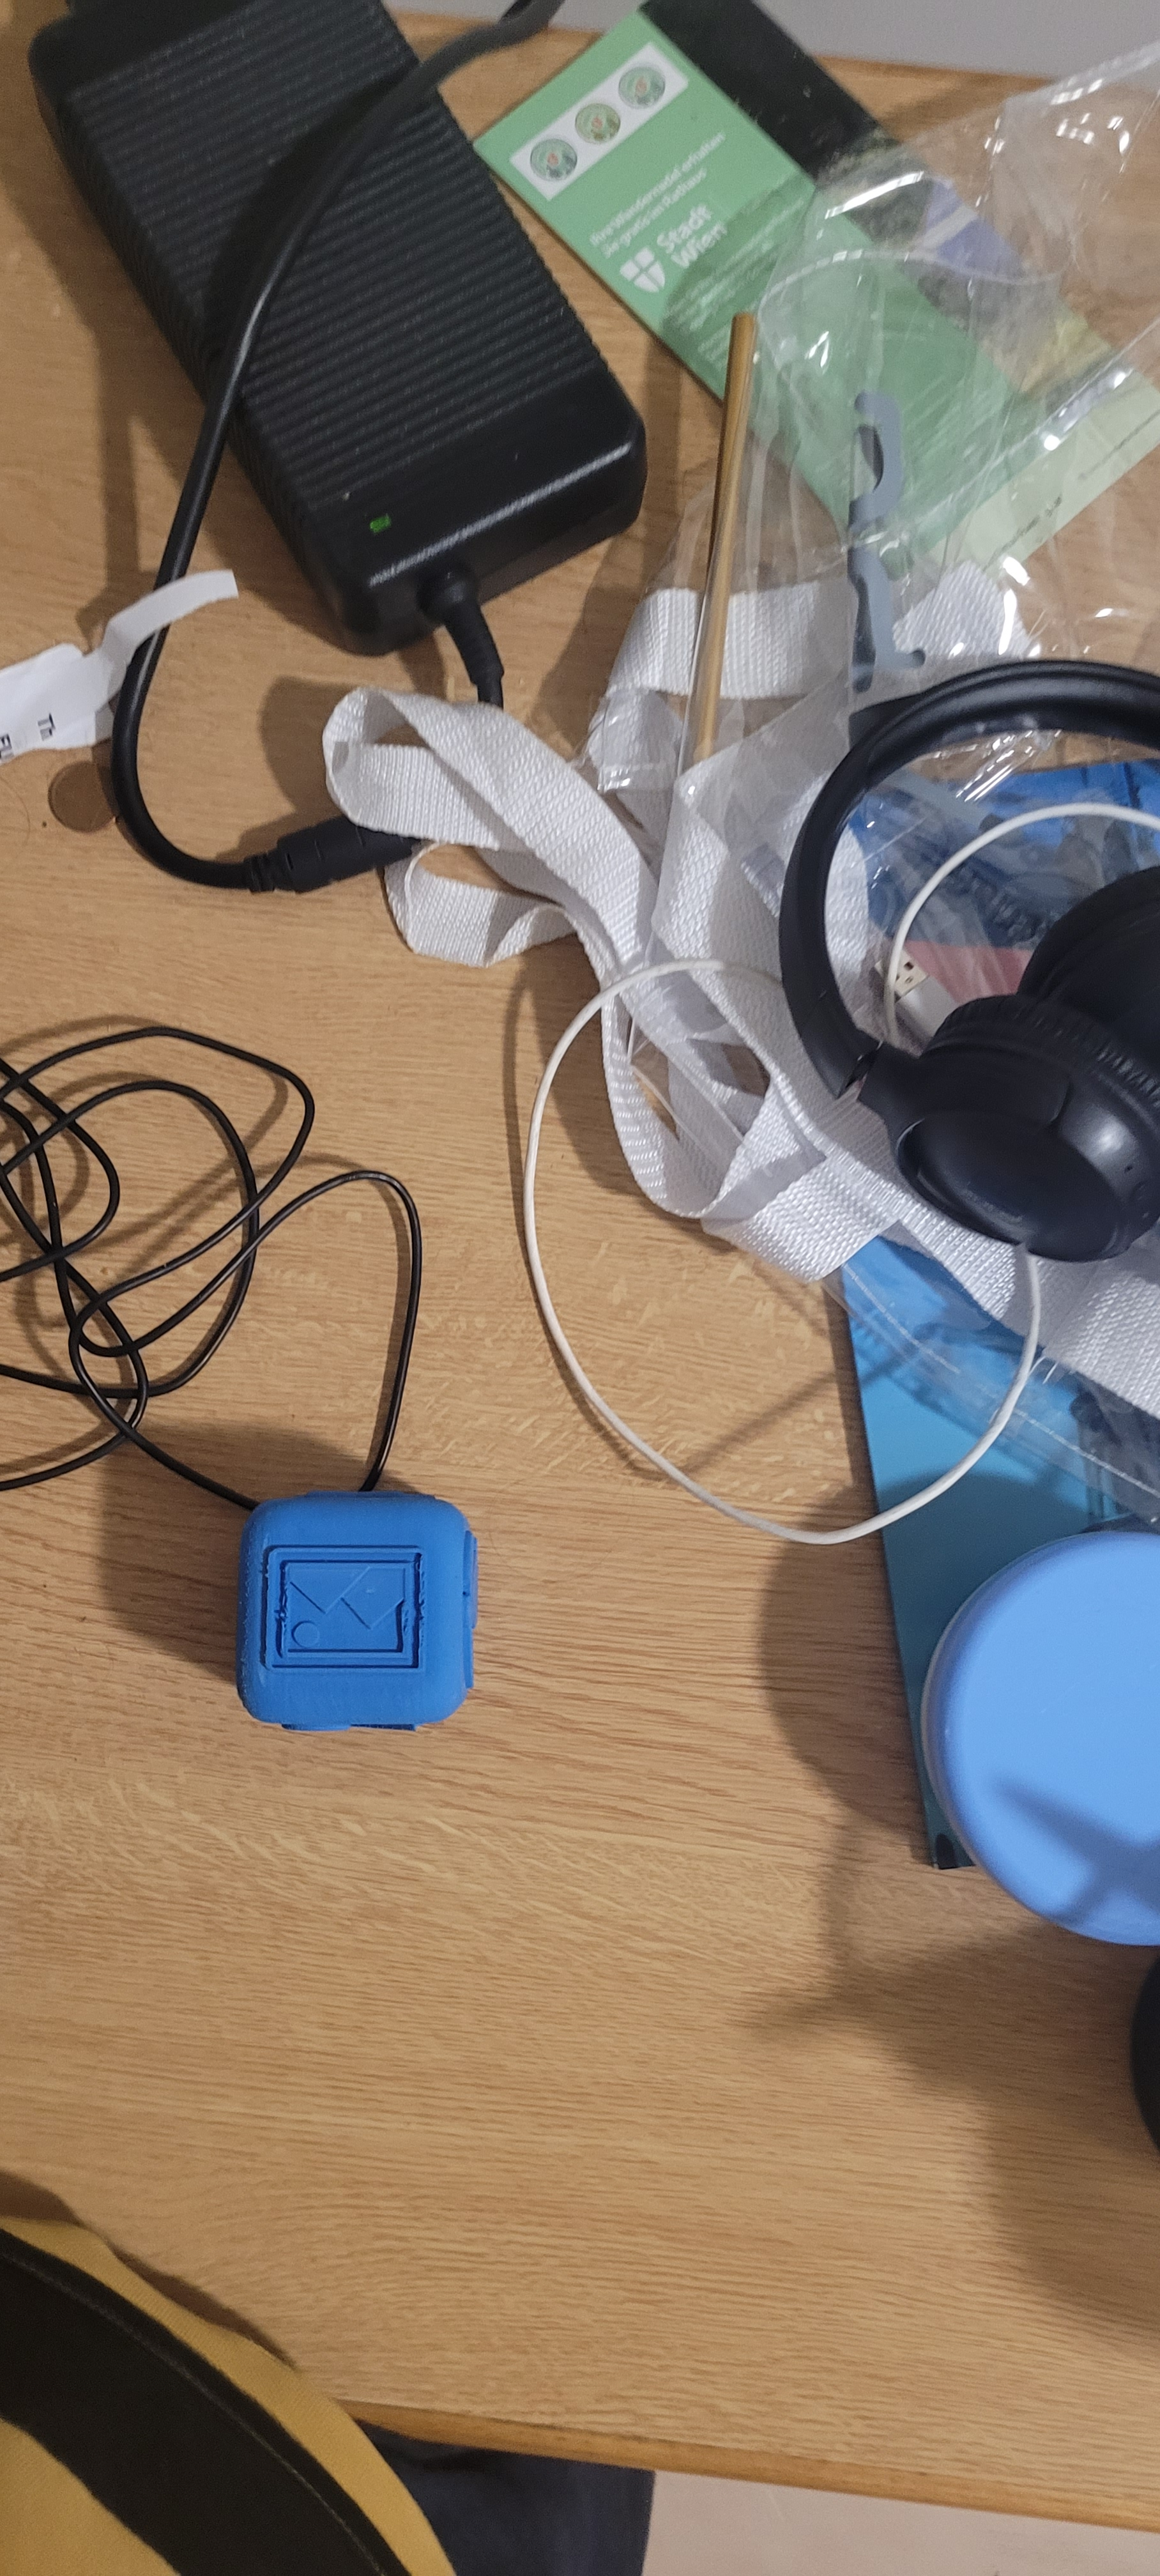Story: (251, 1510, 444, 1722)
